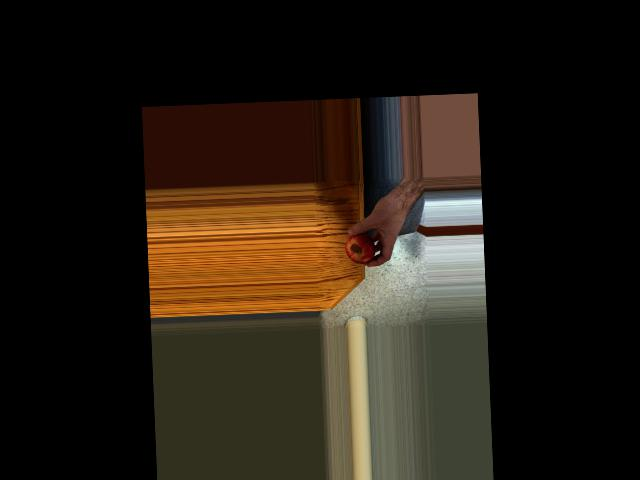apple: (344, 228, 376, 265)
